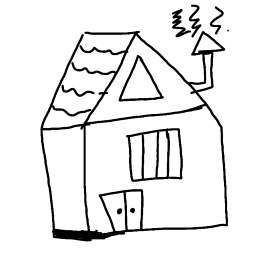closed_window: (121, 125, 191, 185)
door: (94, 185, 154, 236)
open_window: (115, 53, 168, 107)
roof: (28, 28, 216, 131)
smoking_chimney: (163, 2, 237, 100)
wall: (71, 102, 232, 243)
